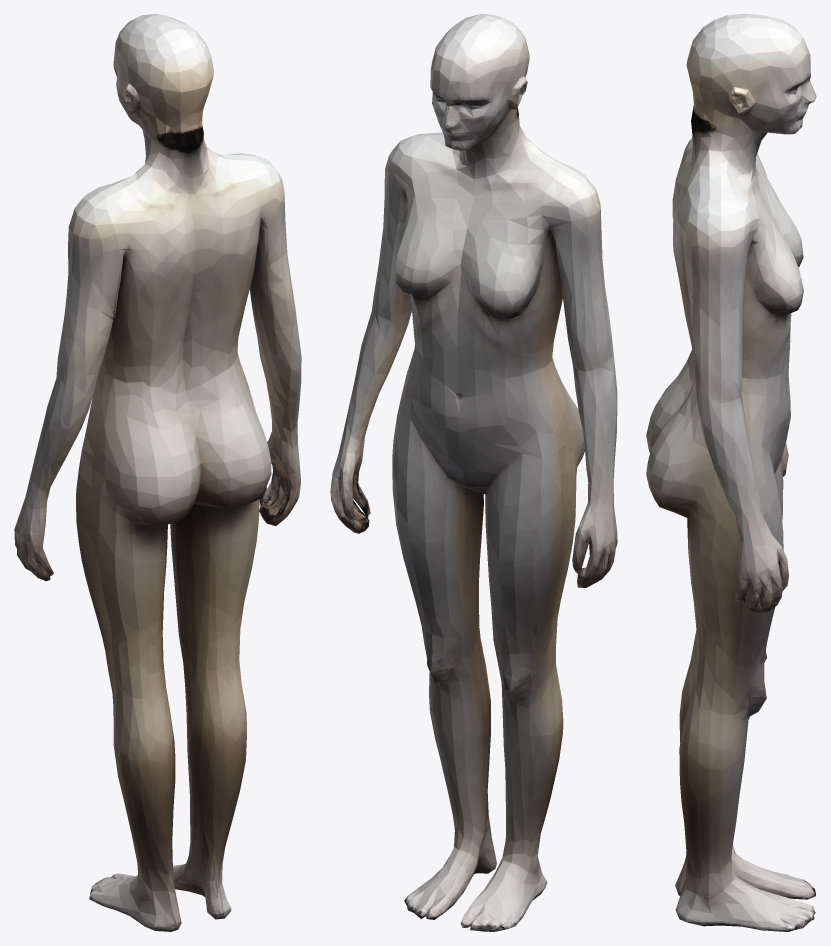
File: Underweight_Rectangle.glb
3 renders of one model, left to right at view 1: azimuth 30°, elevation 25°; view 2: azimuth 150°, elevation 25°; view 3: azimuth 270°, elevation 25°, orthographic.
Parts seen in each view (by area): view 1: world; view 2: world; view 3: world.
Boxes of the visible parts, x1=… form: world: x1=14, y1=14, x2=301, y2=931; world: x1=330, y1=14, x2=617, y2=931; world: x1=646, y1=14, x2=816, y2=931.
Size of the model in its own units: 0.3311 by 1 by 0.1742.
1 material, 1 textured.
